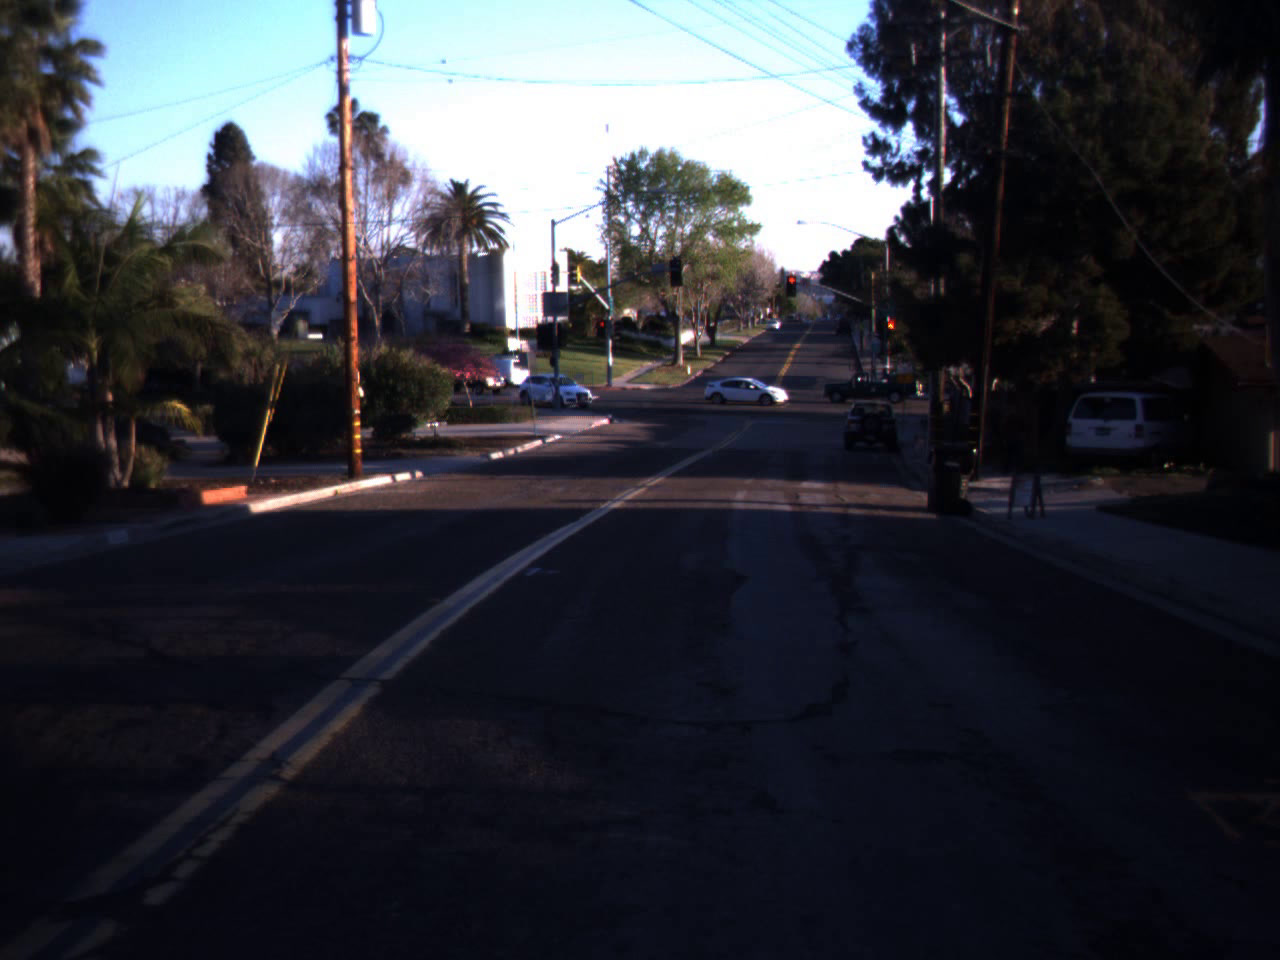stop: (882, 319, 900, 346), (786, 276, 798, 294), (596, 320, 608, 338)
